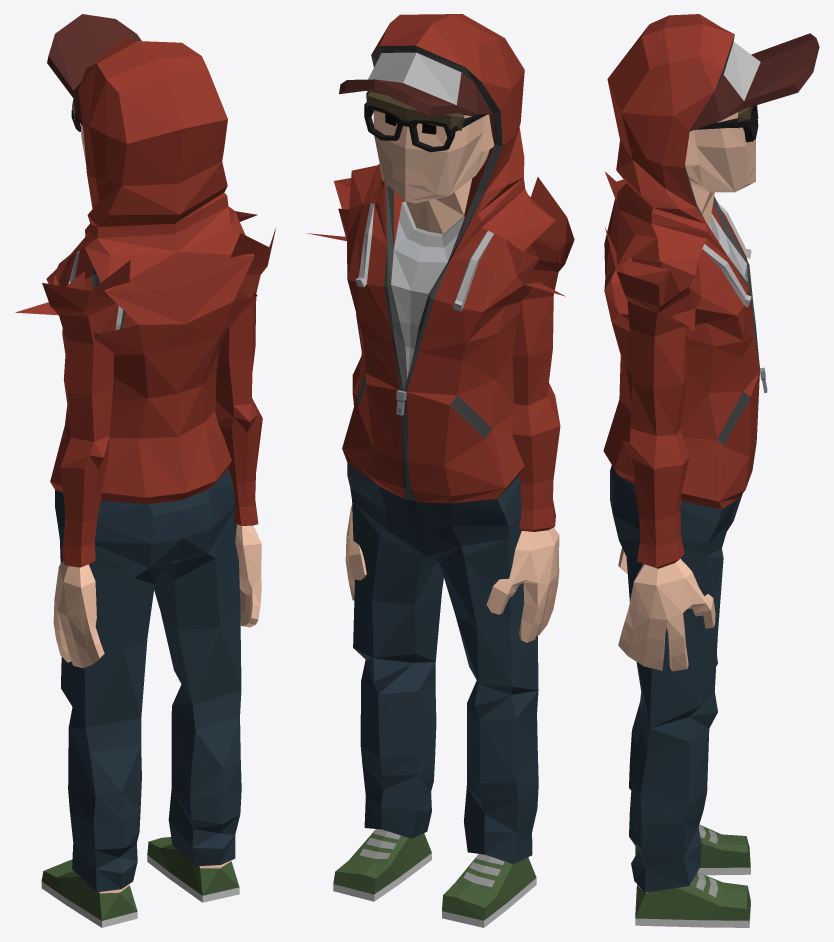
The model's file is Body_drummer.obj.
3 renders of one model, left to right at view 1: azimuth 30°, elevation 25°; view 2: azimuth 150°, elevation 25°; view 3: azimuth 270°, elevation 25°, orthographic. The views are drawn at different scales.
Visible parts, largest first — view 1: Body_drummer; view 2: Body_drummer; view 3: Body_drummer.
Boxes of the visible parts, box(x1,y1,x2,y2) form: Body_drummer: box(15, 14, 276, 927); Body_drummer: box(307, 14, 574, 927); Body_drummer: box(603, 14, 819, 927).
Size of the model in its own units: 0.5821 by 1.85 by 0.4175.
Materials: 1 (1 with a texture image).
